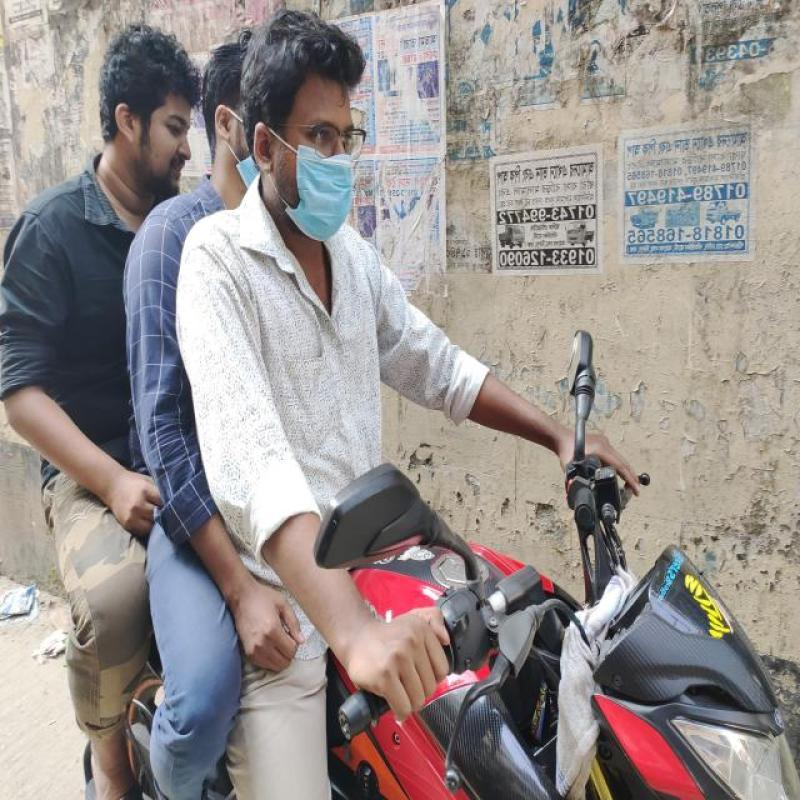nohelmet: (233, 3, 382, 248), (67, 0, 211, 182)
